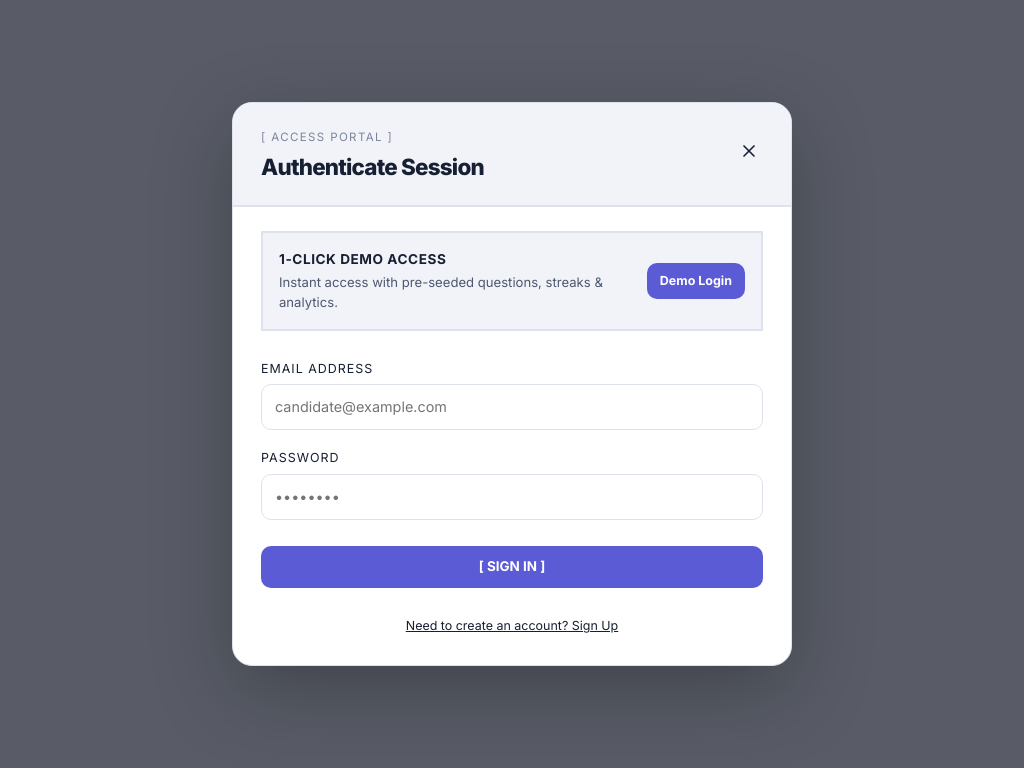
Test case: AuthModal › shows an authentication error without closing the modal
Type "user@example.com" into the field with placeholder "candidate@example.com" at (512, 407), box [261,384,763,430]
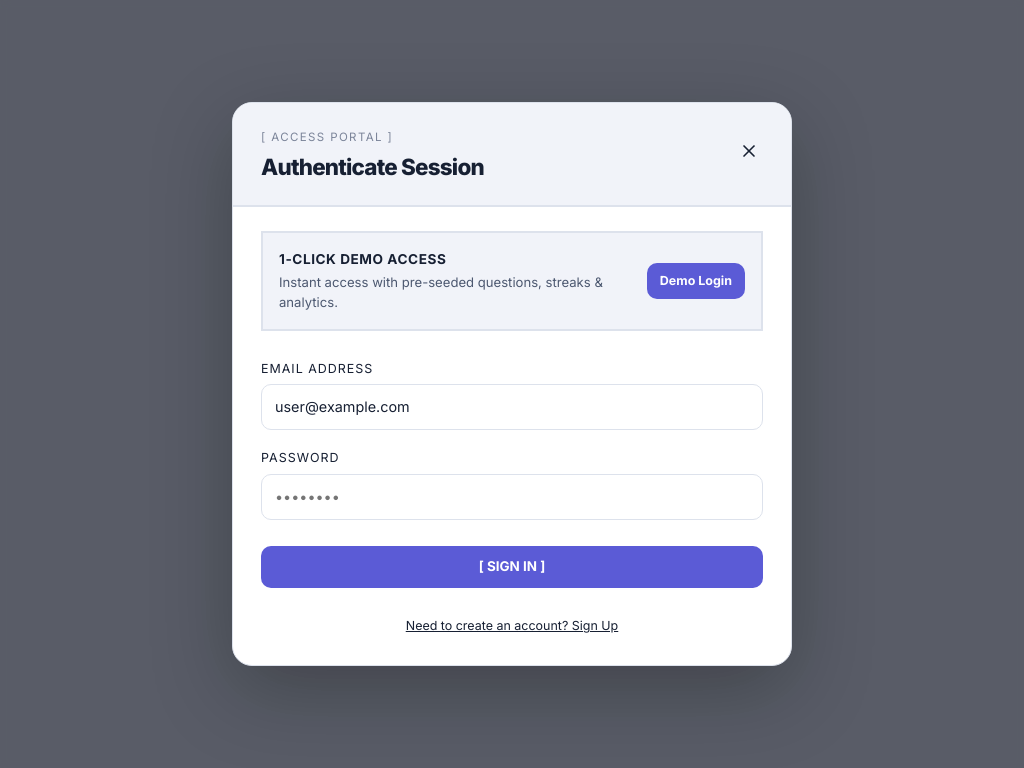
Type "wrong-password" into the password field with placeholder "••••••••" at (512, 497), box [261,474,763,520]
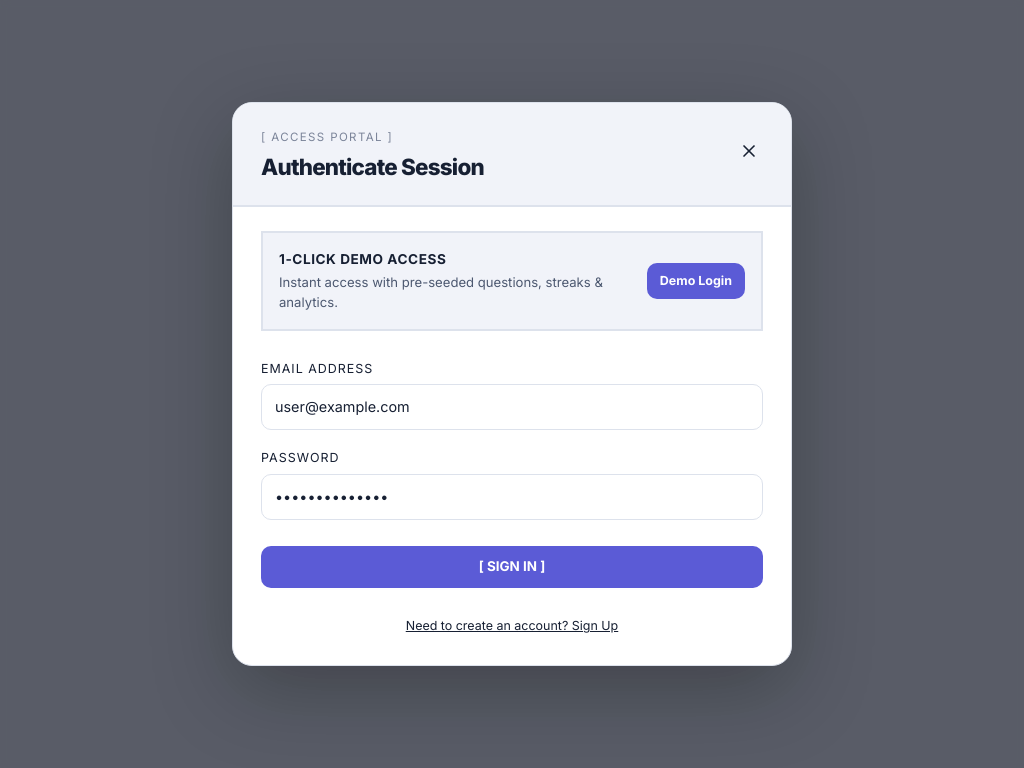
Click the button "[ SIGN IN ]" at (512, 567), box [261,546,763,588]
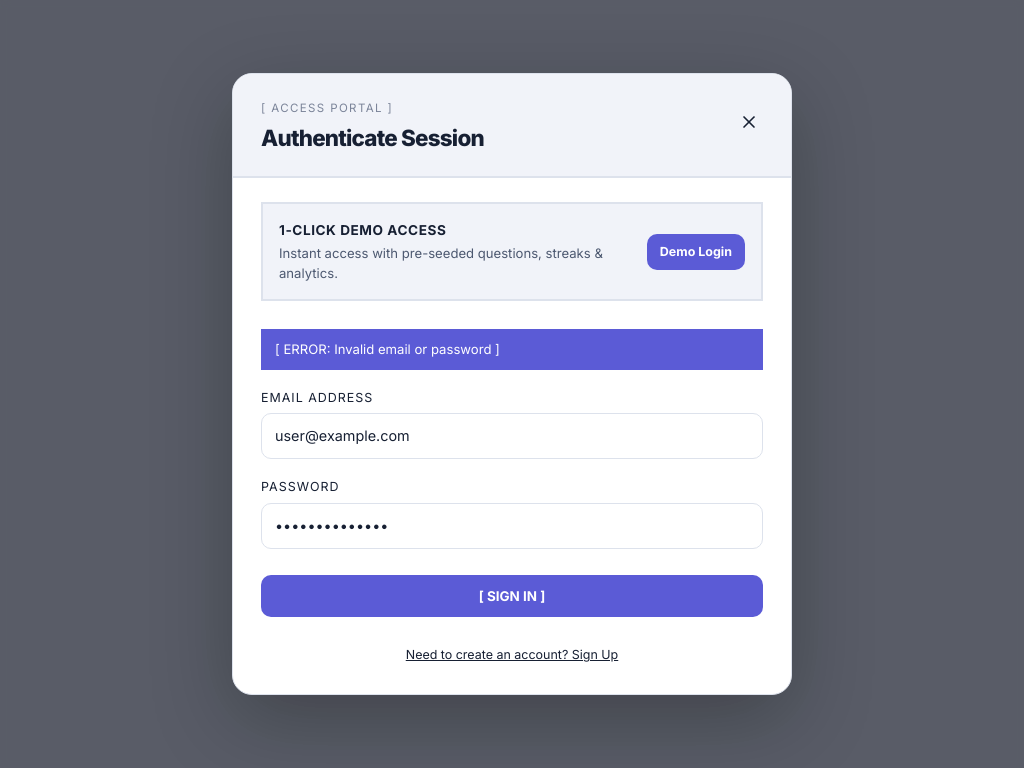
expect the text "[ ERROR: Invalid email or password ]" is shown: met, box [261,329,763,370]
